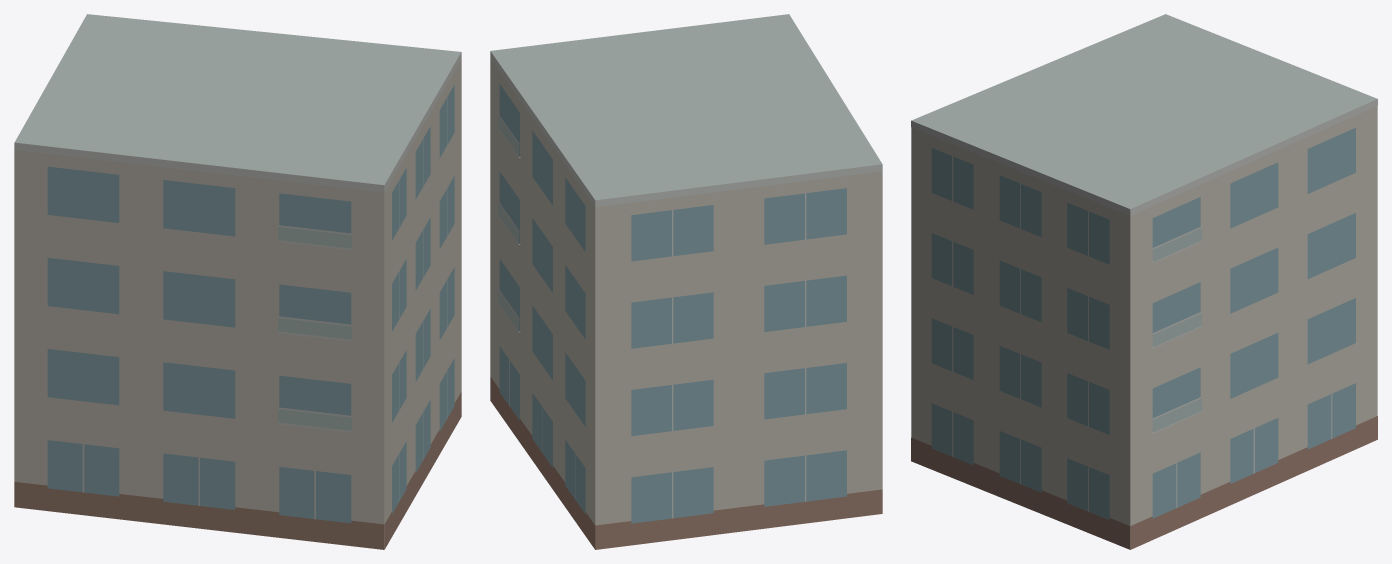
The model's file is survey-upis-32492691.glb.
3 renders of one model, left to right at view 1: azimuth 30°, elevation 25°; view 2: azimuth 150°, elevation 25°; view 3: azimuth 270°, elevation 25°, orthographic. The views are drawn at different scales.
Parts seen in each view (by area): view 1: survey-upis-32492691.tmp; view 2: survey-upis-32492691.tmp; view 3: survey-upis-32492691.tmp.
Boxes of the visible parts, bbox=[...] form: survey-upis-32492691.tmp: bbox=[14, 14, 461, 549]; survey-upis-32492691.tmp: bbox=[490, 14, 882, 549]; survey-upis-32492691.tmp: bbox=[911, 14, 1377, 549].
Size of the model in its own units: 15 by 12.2 by 15.15.
